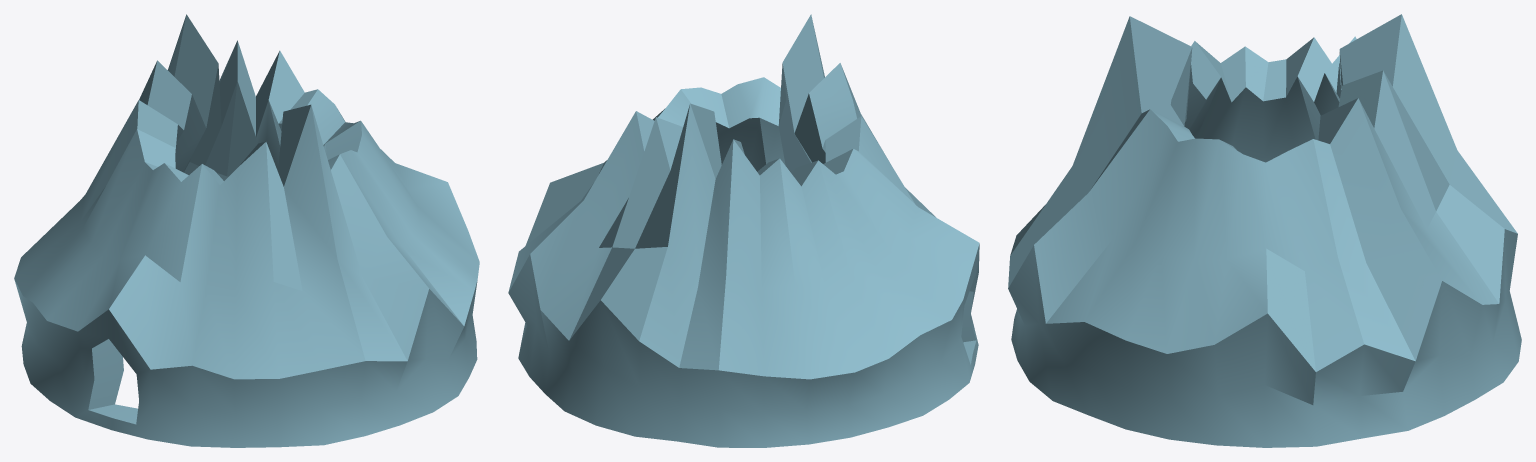
Rendered from Crabcave.fbx.
3 views of the same model, side by side, from view 1: azimuth 30°, elevation 25°; view 2: azimuth 150°, elevation 25°; view 3: azimuth 270°, elevation 25° (orthographic). The views are drawn at different scales.
Visible parts, largest first — view 1: cavbackup; view 2: cavbackup; view 3: cavbackup.
Part boxes in pixels (<box>): cavbackup: <box>14,14,479,447</box>; cavbackup: <box>508,14,979,447</box>; cavbackup: <box>1008,14,1521,447</box>.
Size of the model in its own units: 1104 by 787 by 1095.
